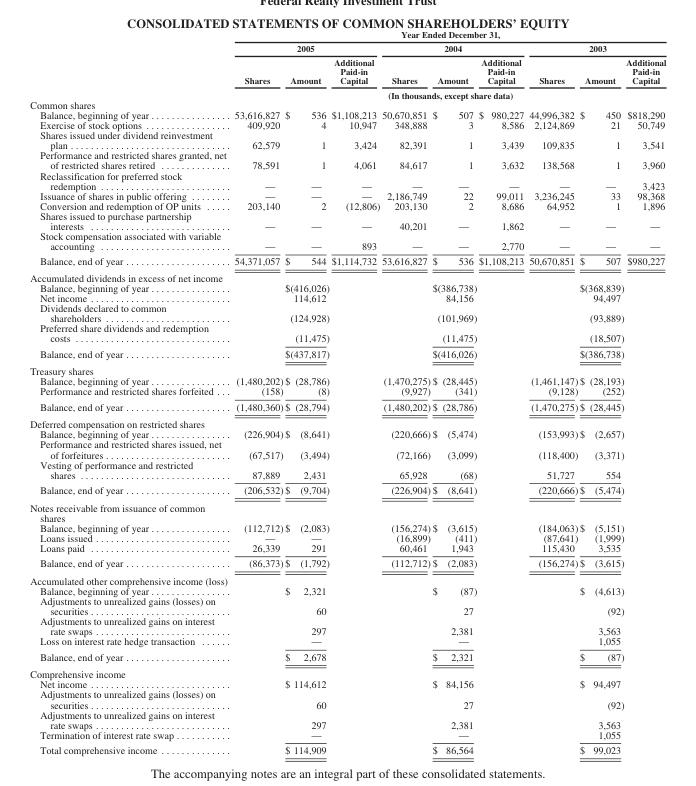table: (29, 28, 665, 755)
table column: (29, 28, 229, 755), (229, 28, 283, 755), (525, 28, 578, 755), (329, 28, 380, 755), (380, 28, 430, 755), (477, 28, 525, 755), (430, 28, 477, 755), (283, 28, 329, 755), (578, 28, 624, 755), (624, 28, 665, 755)
table column header: (29, 28, 665, 99)
table projected row header: (29, 498, 665, 522), (29, 361, 665, 375), (29, 571, 665, 585), (29, 269, 665, 282), (29, 415, 665, 428), (29, 665, 665, 678), (29, 99, 665, 109)
table row: (29, 54, 665, 87), (29, 498, 665, 522), (29, 230, 665, 253), (29, 322, 665, 345), (29, 459, 665, 481), (29, 149, 665, 170), (29, 129, 665, 149), (29, 170, 665, 190), (29, 210, 665, 230), (29, 302, 665, 322), (29, 439, 665, 459), (29, 595, 665, 615), (29, 615, 665, 635), (29, 689, 665, 709), (29, 709, 665, 729), (29, 398, 665, 415), (29, 481, 665, 498), (29, 648, 665, 665), (29, 253, 665, 269), (29, 345, 665, 361), (29, 555, 665, 571), (29, 40, 665, 54), (29, 361, 665, 375), (29, 571, 665, 585), (29, 269, 665, 282), (29, 385, 665, 398), (29, 415, 665, 428), (29, 542, 665, 555), (29, 635, 665, 648), (29, 665, 665, 678), (29, 729, 665, 742), (29, 742, 665, 755), (29, 28, 665, 40), (29, 87, 665, 99), (29, 428, 665, 439), (29, 678, 665, 689), (29, 99, 665, 109), (29, 109, 665, 119), (29, 119, 665, 129), (29, 190, 665, 200), (29, 200, 665, 210), (29, 282, 665, 292), (29, 292, 665, 302), (29, 375, 665, 385), (29, 522, 665, 532), (29, 532, 665, 542), (29, 585, 665, 595)
table spanning cell: (229, 28, 665, 40), (229, 87, 665, 99), (229, 40, 380, 54), (380, 40, 525, 54), (525, 40, 665, 54)
